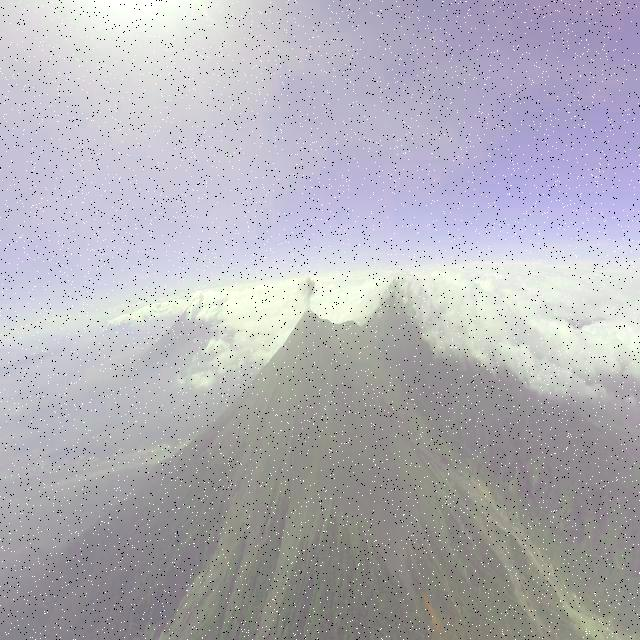Plume: (295, 276, 317, 308)
Summit: (292, 308, 330, 332)
